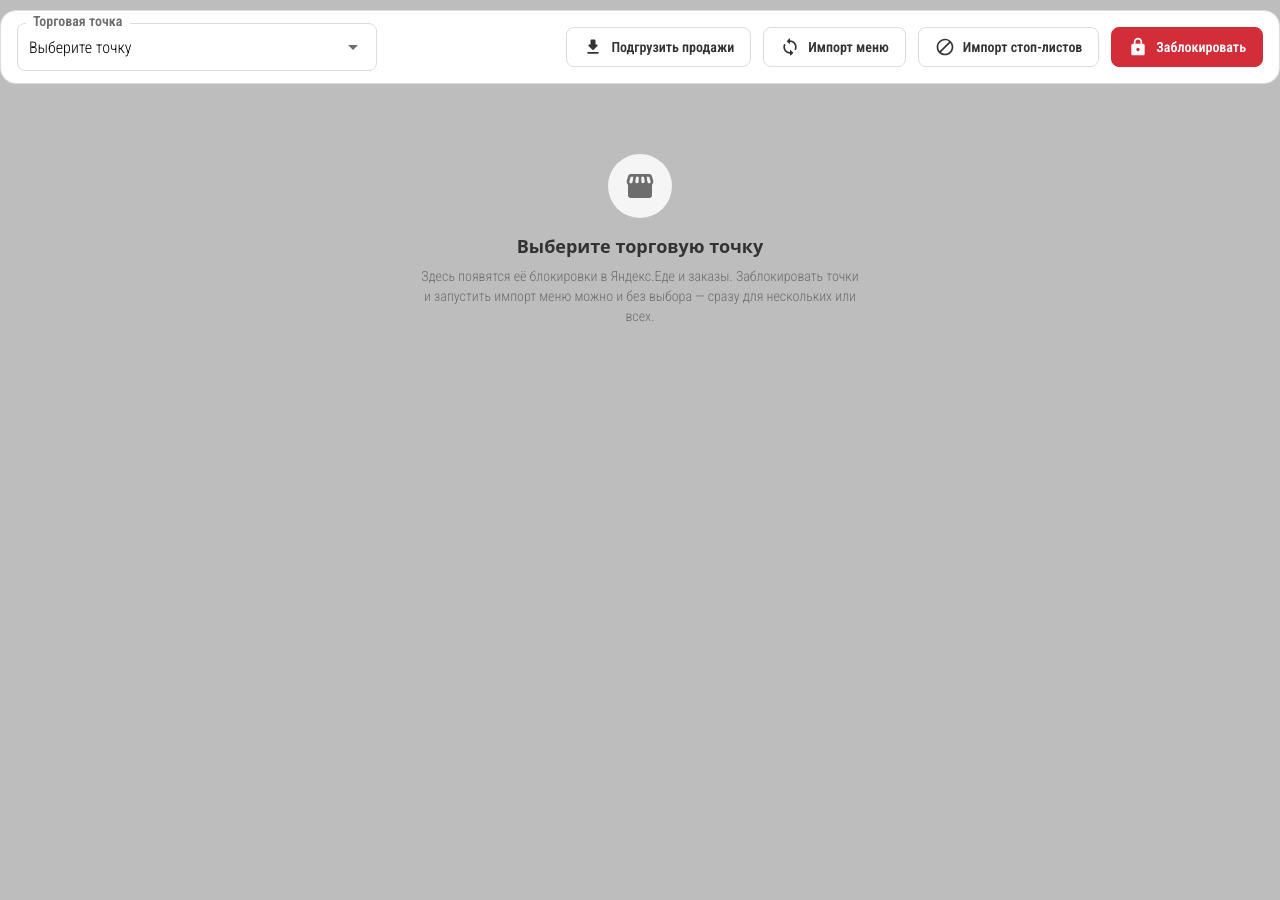
Test: filters orders by status and opens the details of a clicked order
Click the button named "Торговая точка": (80, 47) top-left (17, 23), bottom-right (377, 71)
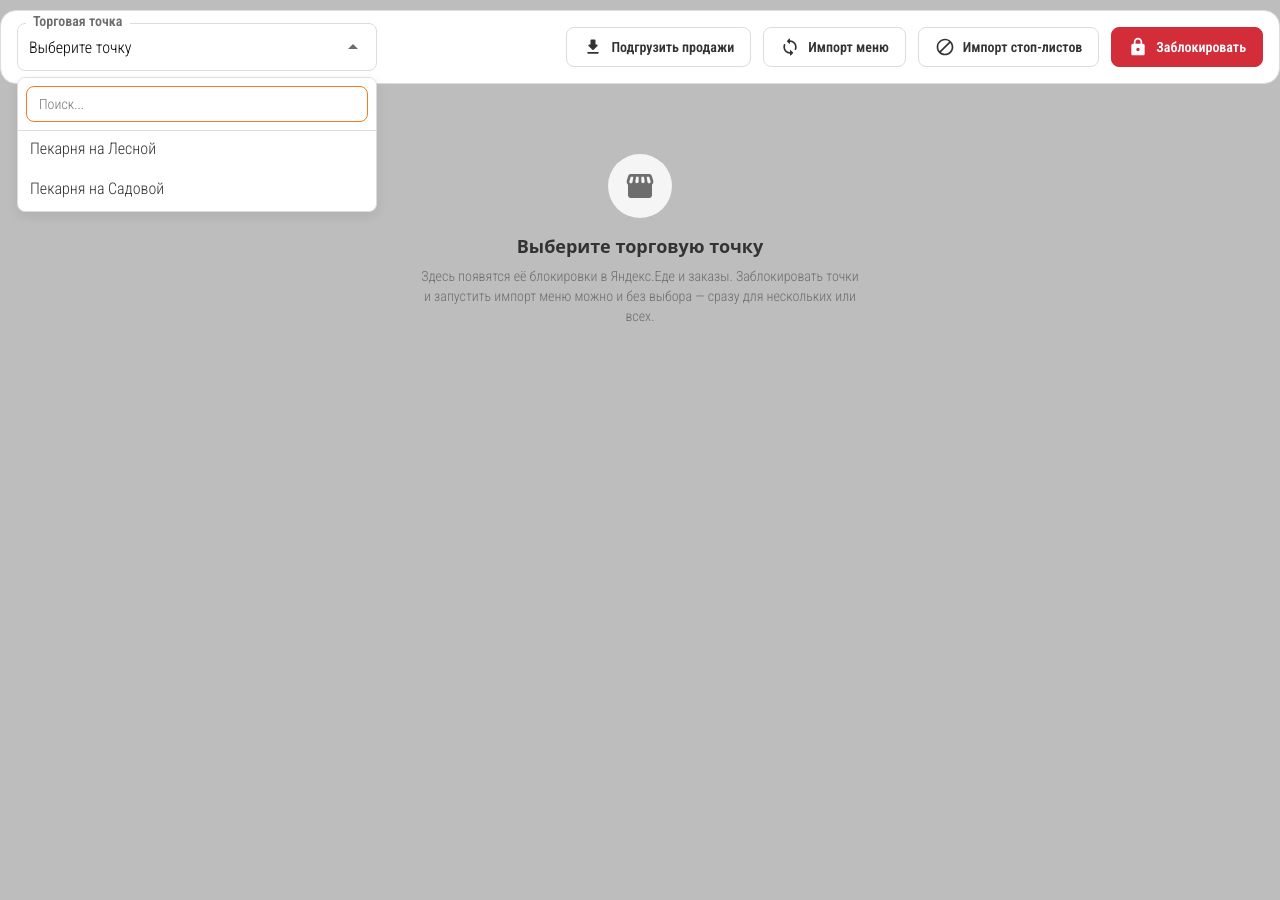
Click the option "Пекарня на Лесной": (93, 148) top-left (30, 139), bottom-right (156, 158)
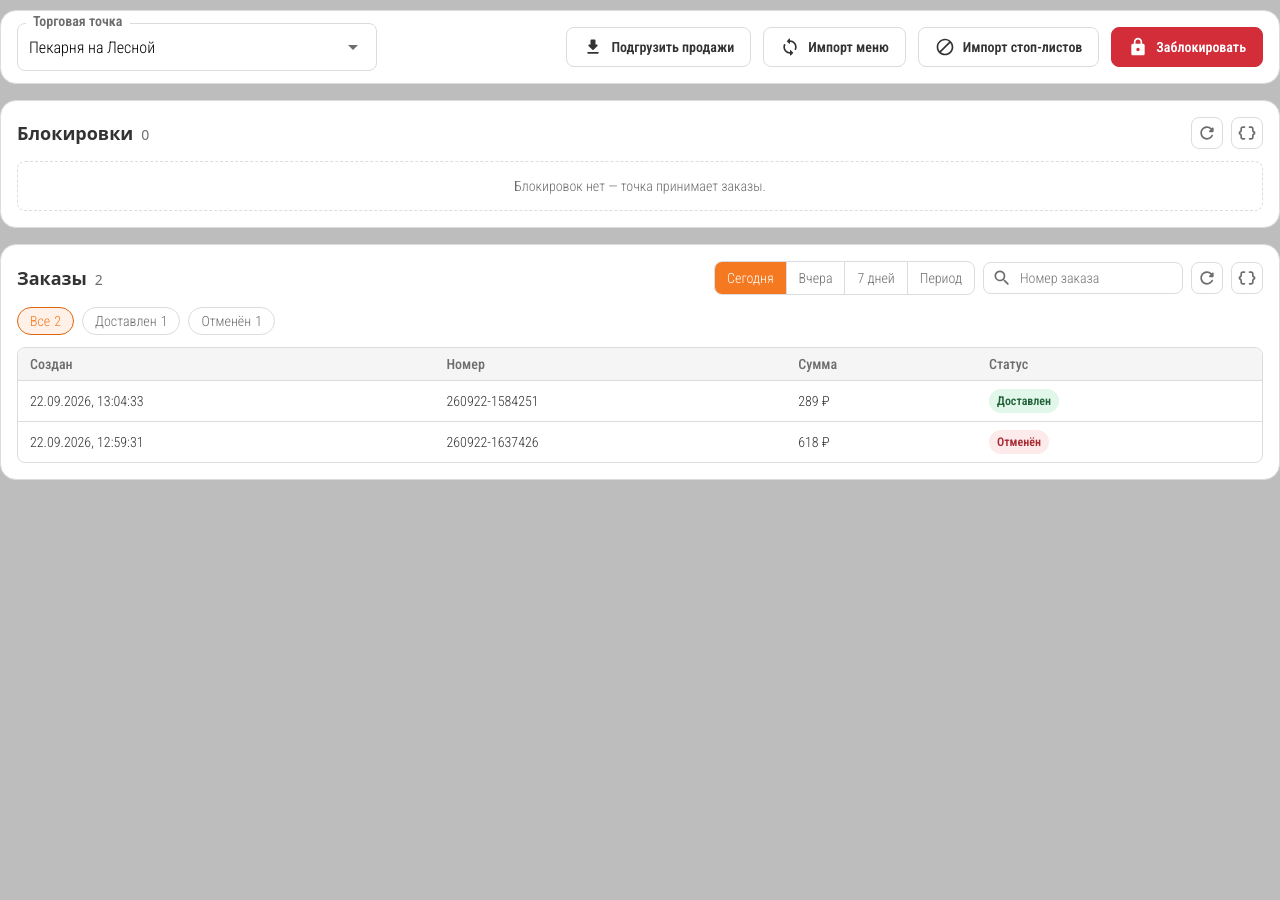
Expected: the text "260922-1637426" is shown, top-left (434, 422), bottom-right (786, 462)
Expected: the text "289 ₽" is shown, top-left (786, 380), bottom-right (977, 422)
Click the button "Доставлен 1": (131, 321) top-left (82, 307), bottom-right (180, 335)
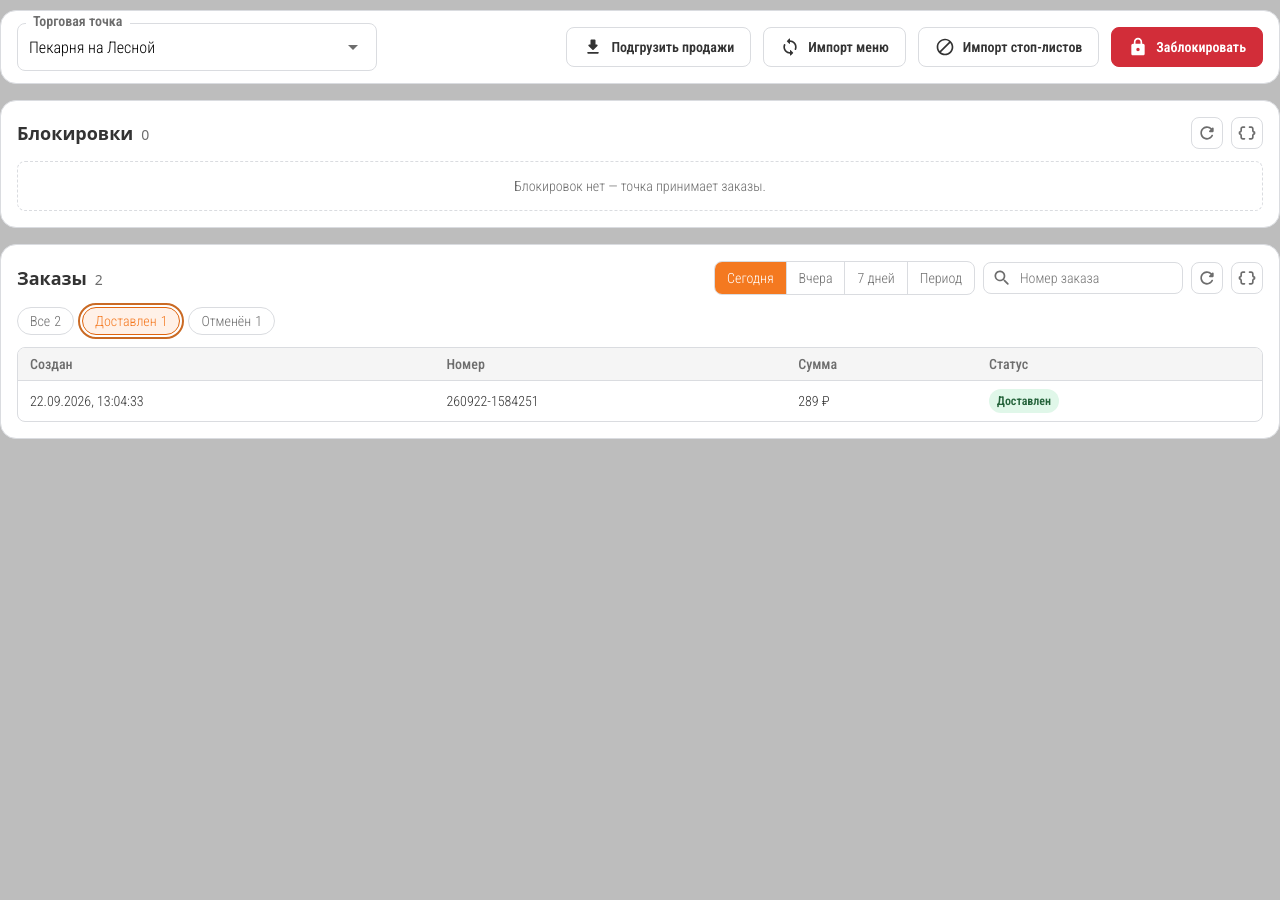
Expected: the text "260922-1637426" is gone
Click the row named "Детали заказа 260922-1584251": (87, 401) top-left (18, 380), bottom-right (1262, 421)
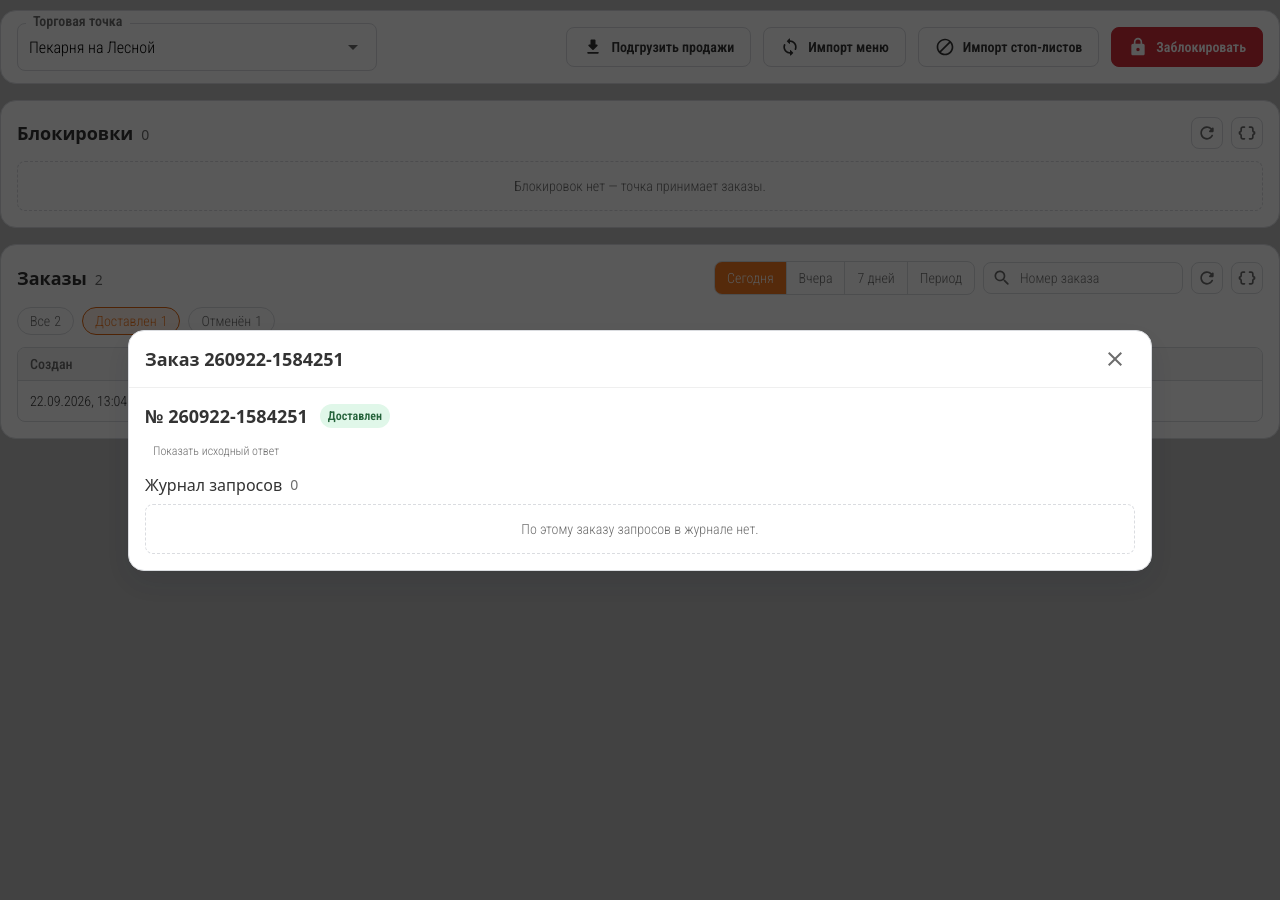
Expected: the dialog "Заказ 260922-1584251" is shown
